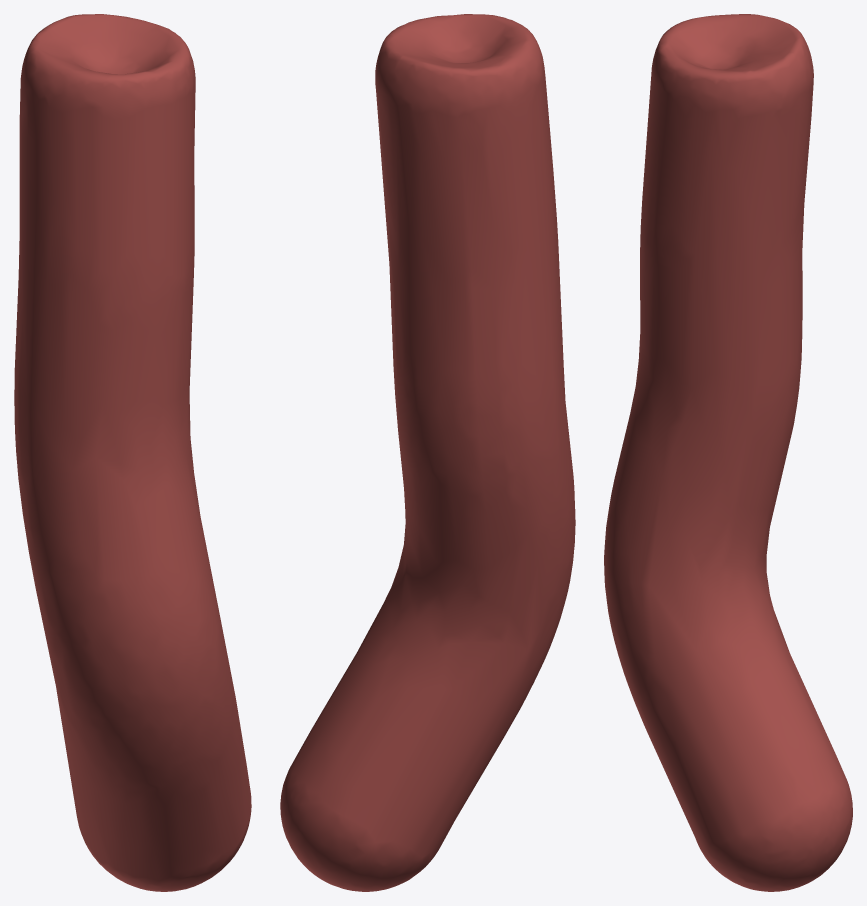
The model's file is FMA3941.glb.
3 renders of one model, left to right at view 1: azimuth 30°, elevation 25°; view 2: azimuth 150°, elevation 25°; view 3: azimuth 270°, elevation 25°, orthographic. The views are drawn at different scales.
Parts seen in each view (by area): view 1: FMA3941; view 2: FMA3941; view 3: FMA3941.
Boxes of the visible parts, x1,y1,x2,y2 form: FMA3941: [14, 14, 251, 891]; FMA3941: [280, 14, 575, 891]; FMA3941: [604, 14, 852, 891].
Bounding box in the file's own units: 0.0127 × 0.044 × 0.0122.
